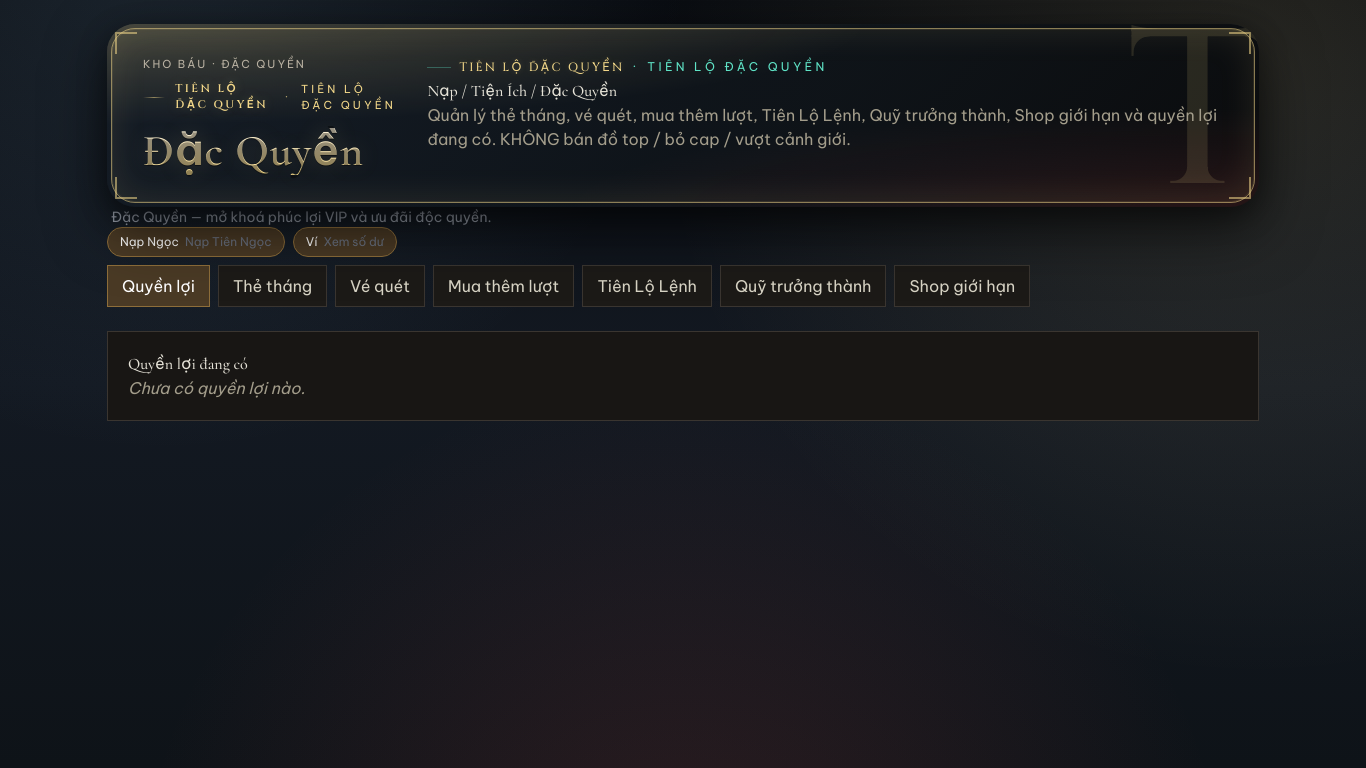
Test case: MonetizationDacQuyenView — Phase 27.1–27.5 › shows missions in battle pass tab
This screenshot has width=1366, height=768.
What coordinates should you click on to do the following:
click the tab with class "tab" showing "Tiên Lộ Lệnh"
I would click on:
 (647, 286)
Its box is [582,265,712,307].
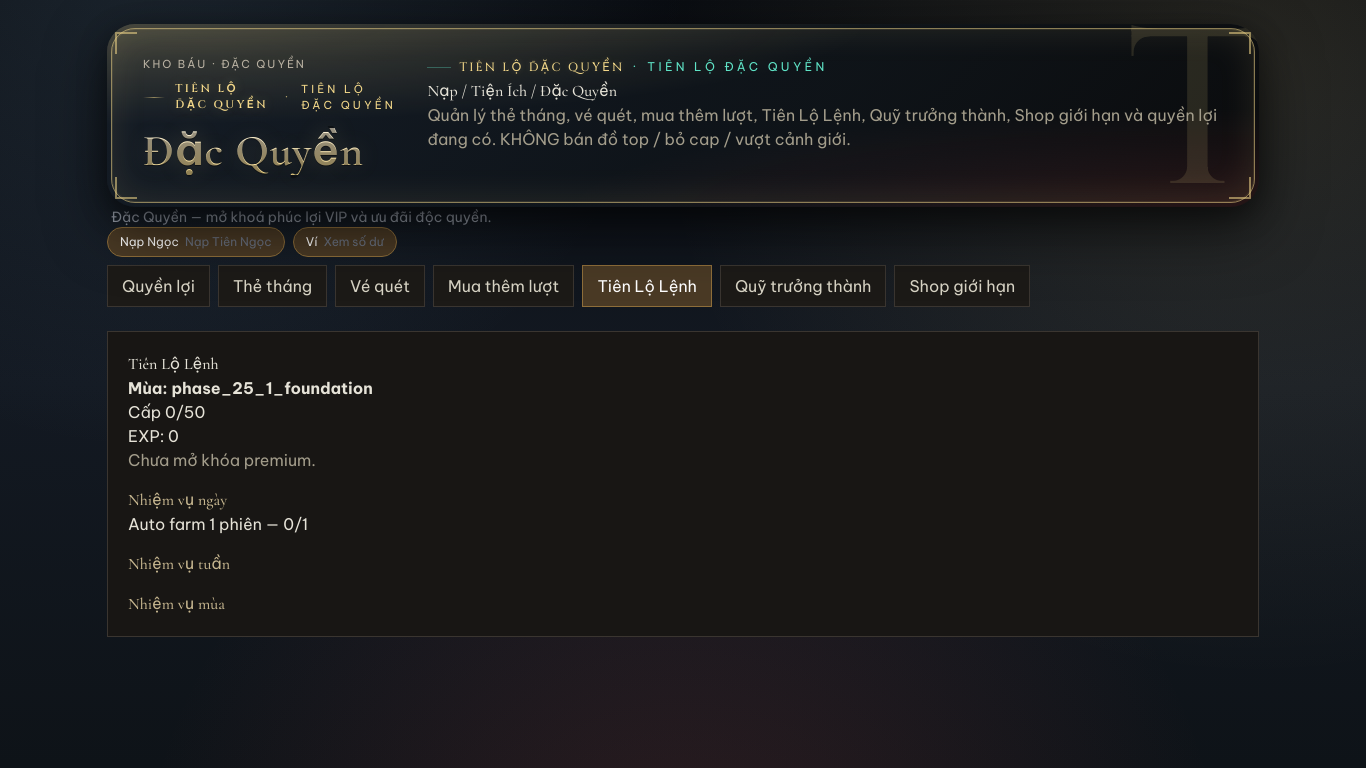
Check: the text "Auto farm 1 phiên" is shown, box [128,514,283,534]
Check: the text "Cấp 0" is shown, box [128,402,205,422]
